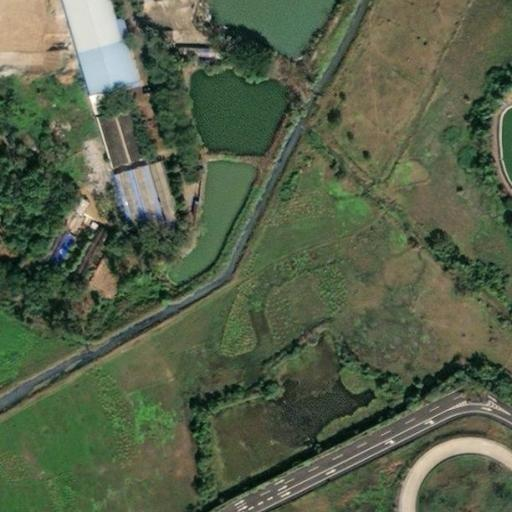building: (138, 162, 171, 224), (105, 169, 138, 230), (87, 110, 120, 168), (122, 167, 154, 225), (104, 106, 137, 162), (56, 192, 92, 233), (72, 228, 100, 265), (174, 39, 216, 57), (47, 236, 66, 262), (64, 259, 82, 278), (157, 222, 169, 237), (183, 201, 189, 216)
